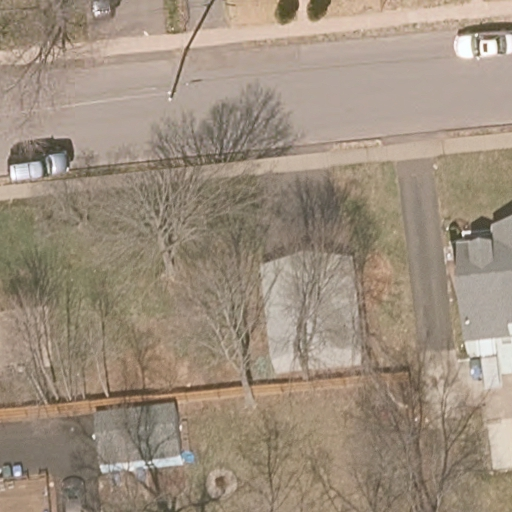DT: (166, 45, 189, 102)
